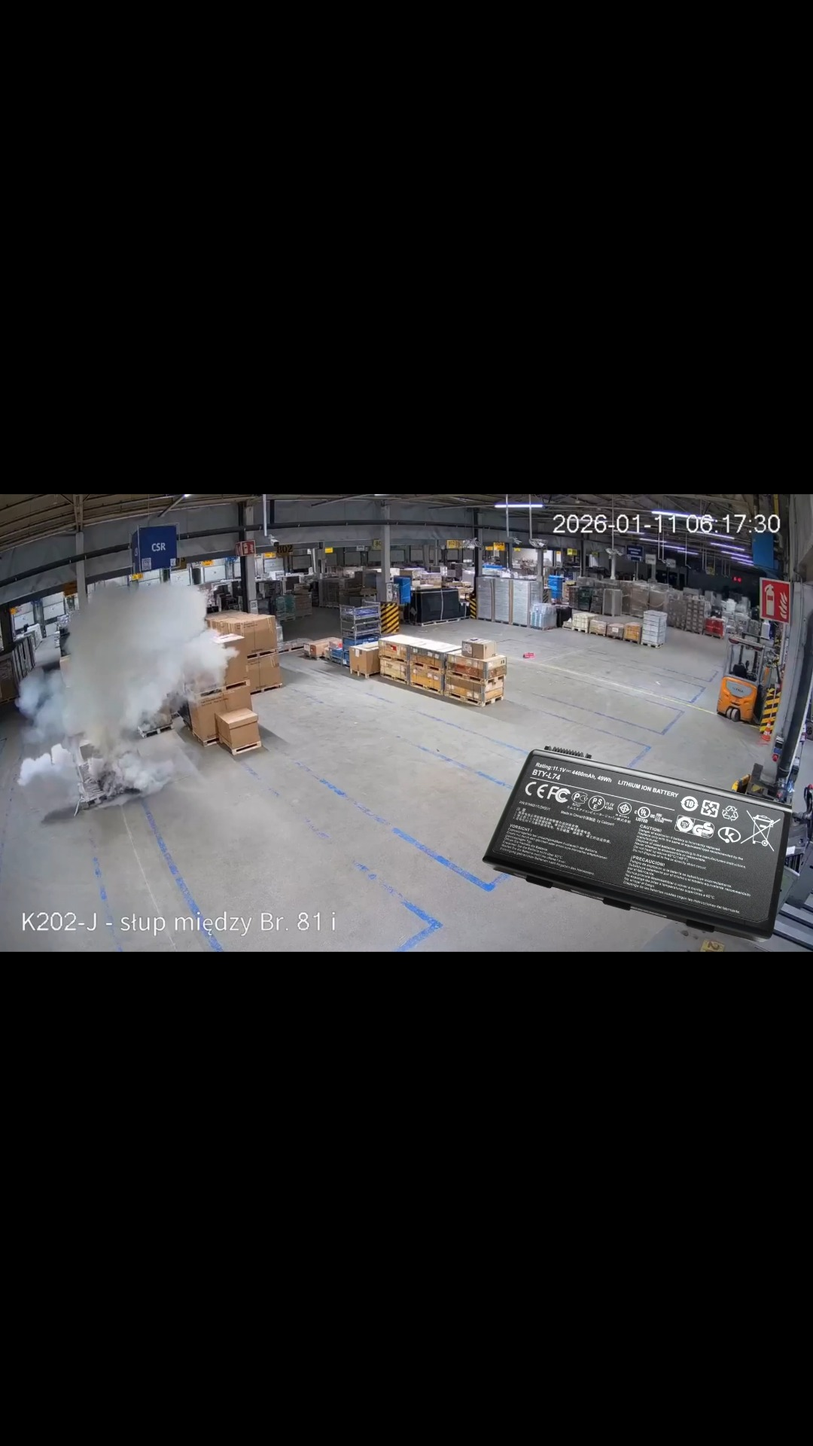smoke: (14, 576, 233, 798)
